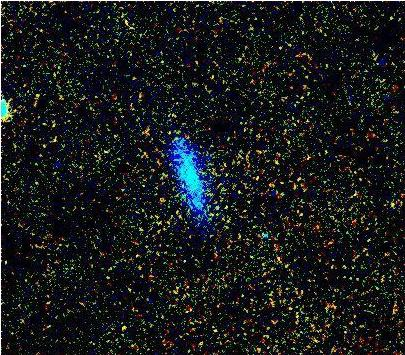star: (148, 188, 178, 218)
